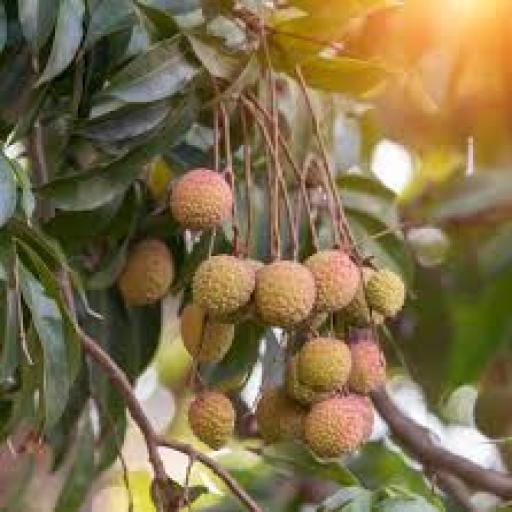lychee: (255, 261, 316, 328), (170, 168, 234, 231), (304, 397, 369, 459), (193, 254, 254, 317), (118, 241, 174, 305), (306, 250, 360, 312), (182, 304, 234, 362), (336, 268, 383, 328), (255, 388, 305, 444), (299, 338, 351, 391), (189, 392, 236, 448), (349, 340, 385, 394), (366, 270, 406, 317), (285, 356, 319, 405)
